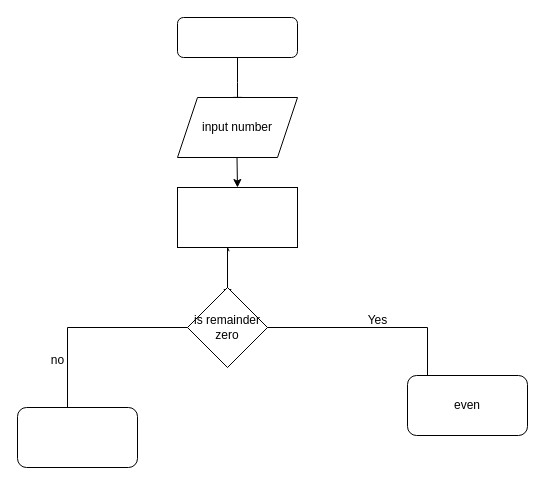
This 545x485 diagram has some shape labels left out. The shapes that lost their labels are listed below. From the top down, each one's centre as x and y in pixels, then its label:
At pixel 237 37: "start".
At pixel 237 217: "divide by 2".
